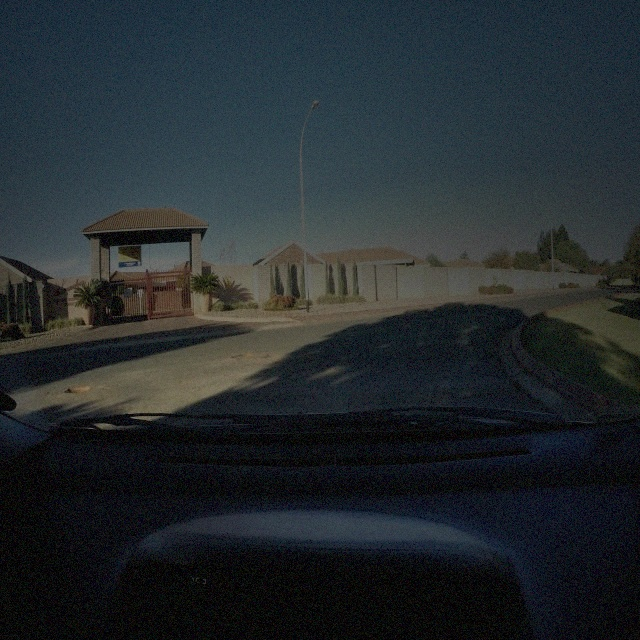pothole: (62, 385, 91, 393), (230, 352, 254, 359), (258, 349, 276, 358), (303, 350, 316, 358)
